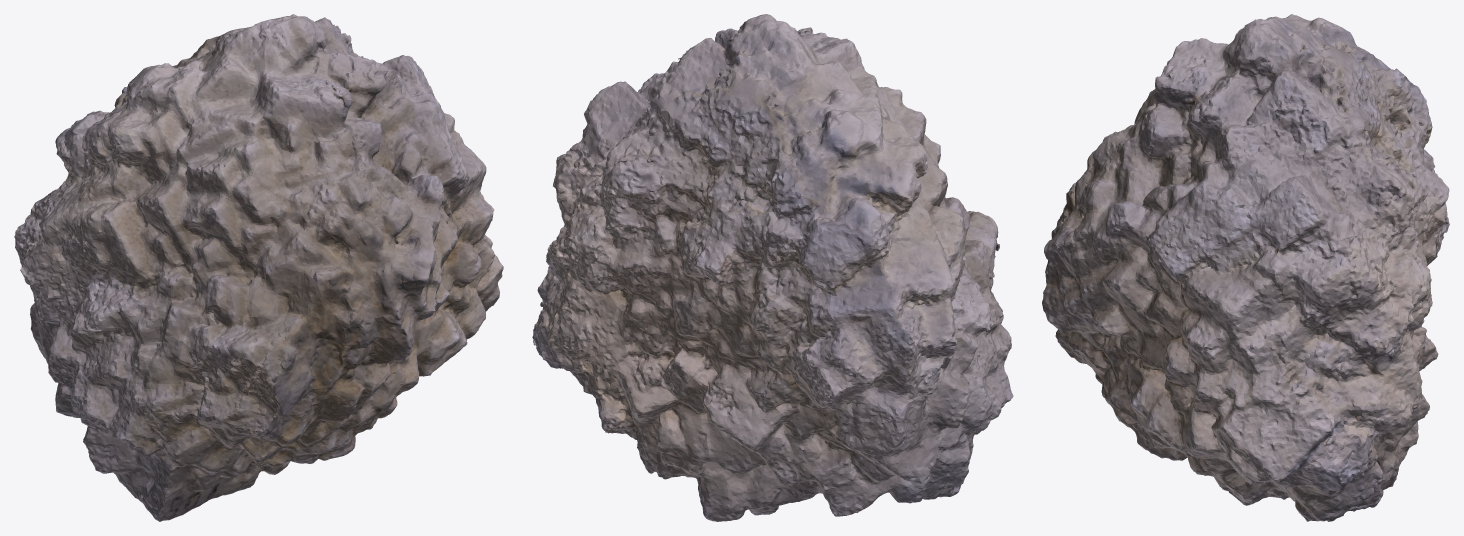
The model's file is mineral_halite.obj.
3 renders of one model, left to right at view 1: azimuth 30°, elevation 25°; view 2: azimuth 150°, elevation 25°; view 3: azimuth 270°, elevation 25°, orthographic. The views are drawn at different scales.
Bounding box in the file's own units: 3.24 × 3.25 × 2.48.
